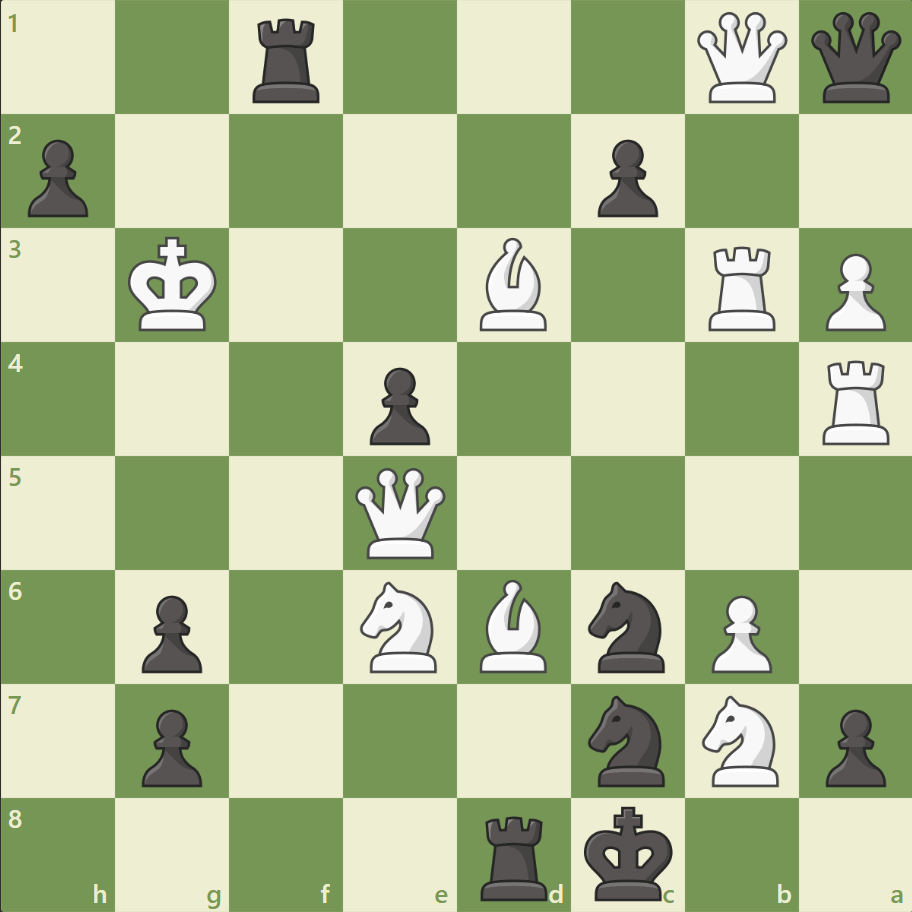B: (471, 233, 555, 336), (471, 574, 555, 676)
K: (124, 231, 224, 339)
N: (351, 575, 449, 677), (692, 688, 789, 791)
P: (701, 586, 776, 677), (815, 246, 889, 337)
Q: (351, 463, 450, 562), (691, 9, 790, 108)
R: (814, 352, 897, 449), (700, 239, 783, 336)
k: (579, 798, 679, 906)
n: (579, 688, 676, 791), (579, 575, 676, 677)
p: (133, 700, 208, 791), (133, 586, 208, 677), (20, 132, 95, 223), (815, 700, 889, 791), (361, 359, 435, 450), (588, 132, 662, 223)
q: (805, 9, 904, 108)
r: (473, 806, 556, 904), (246, 12, 329, 109)
